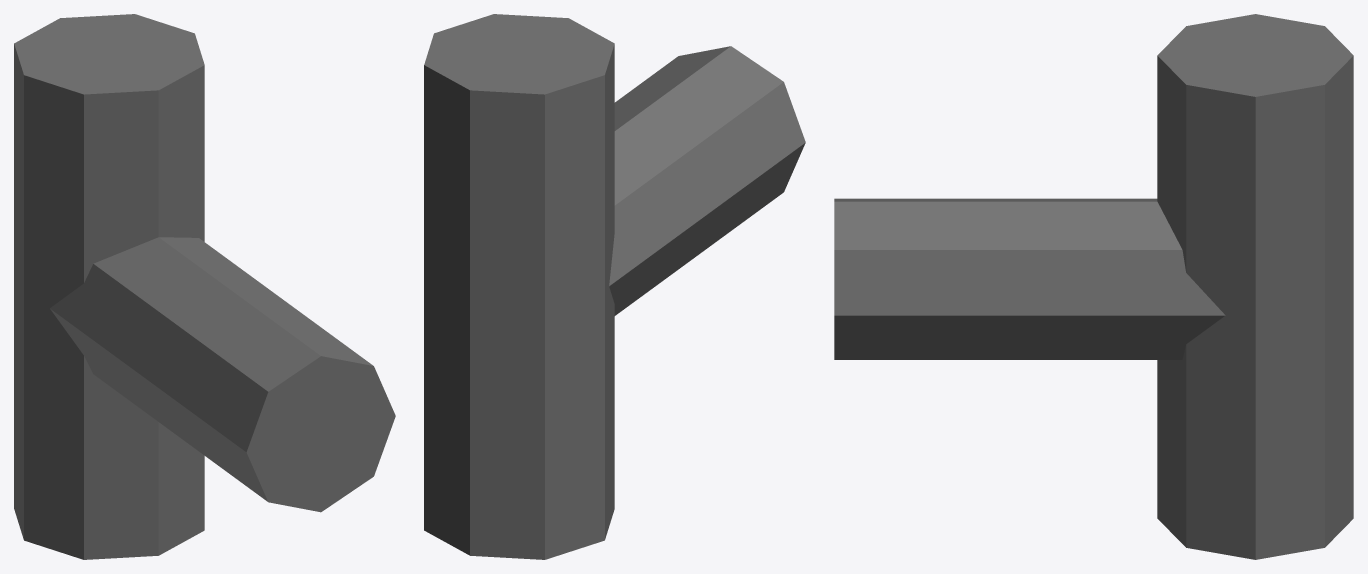
The picture shows the model from 3 angles, left to right: view 1: azimuth 30°, elevation 25°; view 2: azimuth 150°, elevation 25°; view 3: azimuth 270°, elevation 25°; orthographic projection.
Parts seen in each view (by area): view 1: SM_B_Part23; view 2: SM_B_Part23; view 3: SM_B_Part23.
Boxes of the visible parts, <box> form: SM_B_Part23: <box>14,14,395,559</box>; SM_B_Part23: <box>424,14,805,559</box>; SM_B_Part23: <box>834,14,1353,559</box>.
Bounding box in the file's own units: 59.04 × 156 × 154.
